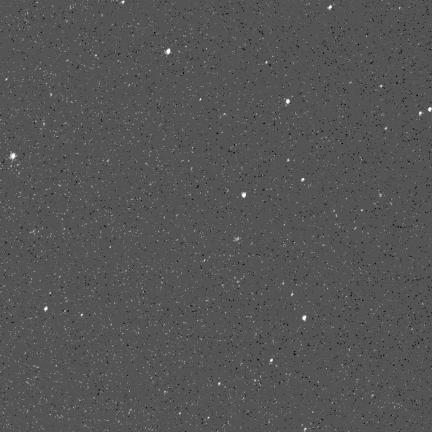blob: (10, 153, 16, 160), (242, 192, 247, 199), (303, 315, 307, 322), (165, 49, 170, 54), (419, 111, 423, 117), (44, 306, 48, 311), (286, 99, 290, 104), (328, 5, 332, 10), (270, 359, 274, 363), (428, 108, 431, 112), (301, 178, 305, 181), (287, 159, 290, 162)
